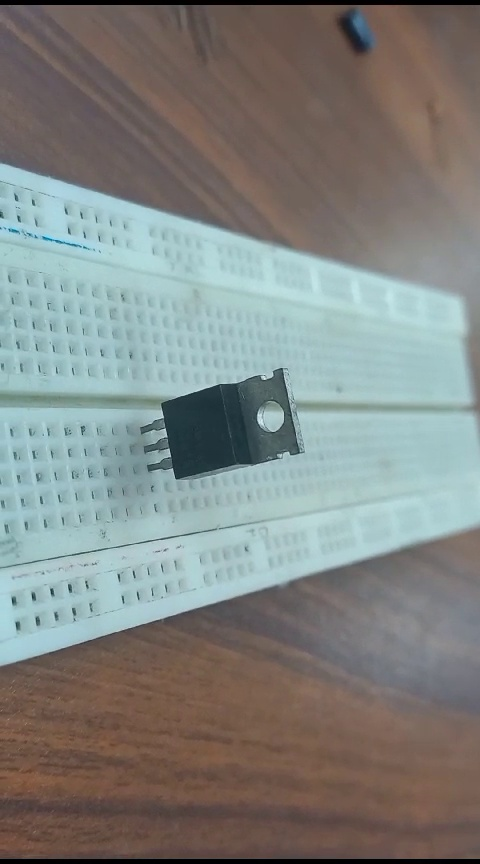voltage regulator: (132, 365, 302, 484)
